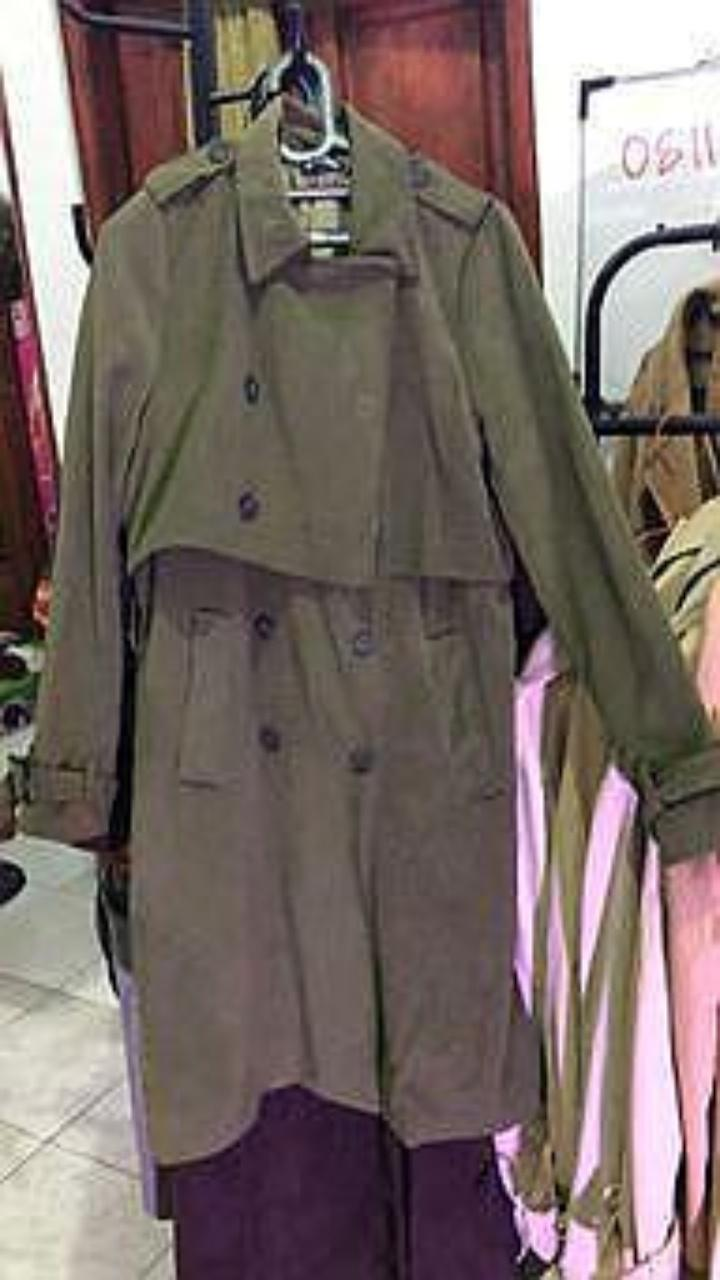Coat: (21, 106, 719, 1162), (612, 282, 719, 552)
